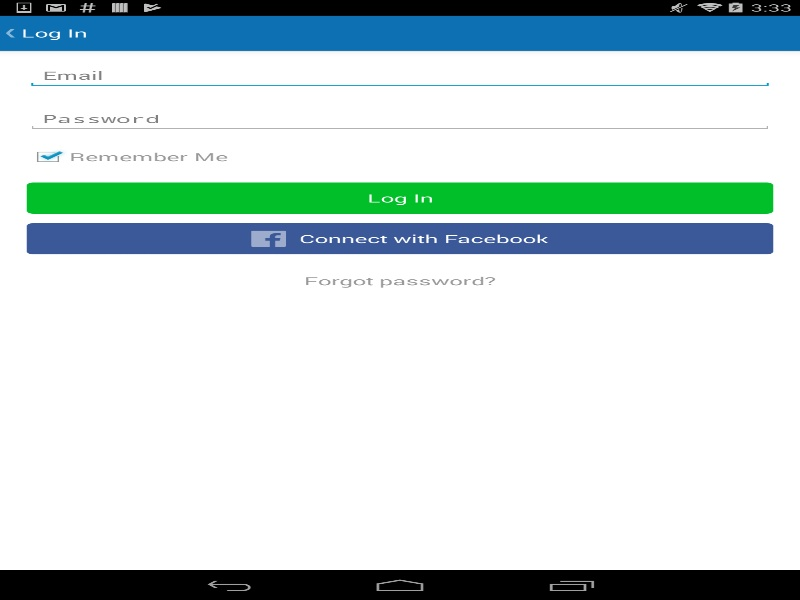Button: (26, 182, 773, 213)
Input: (26, 106, 773, 131), (26, 63, 773, 87)
